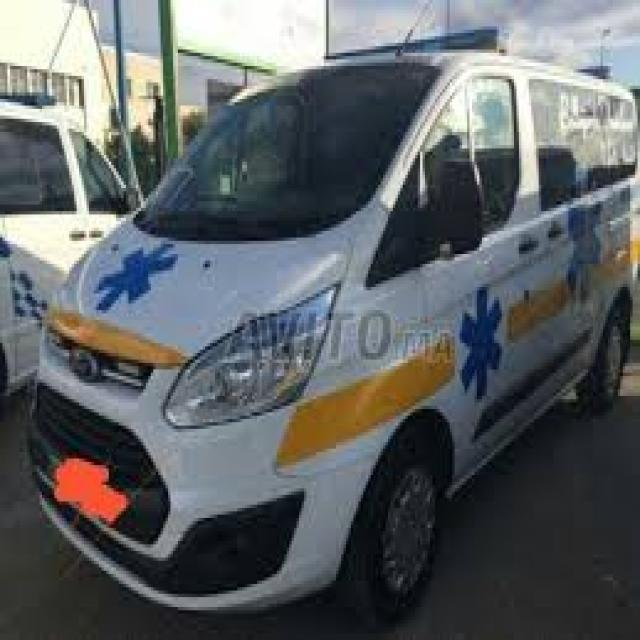ambulance: (26, 14, 640, 634)
